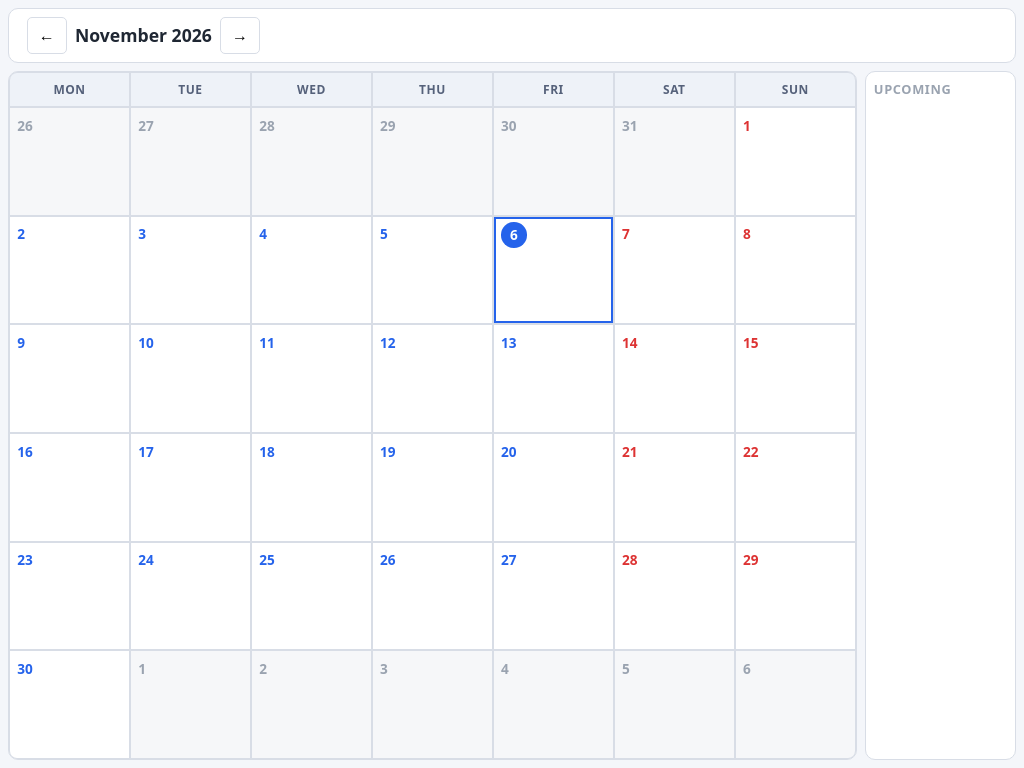
Calendar › creates an event from a day click
This screenshot has width=1024, height=768.
Click the 1st cell "5": point(432, 270) [373, 217, 492, 323]
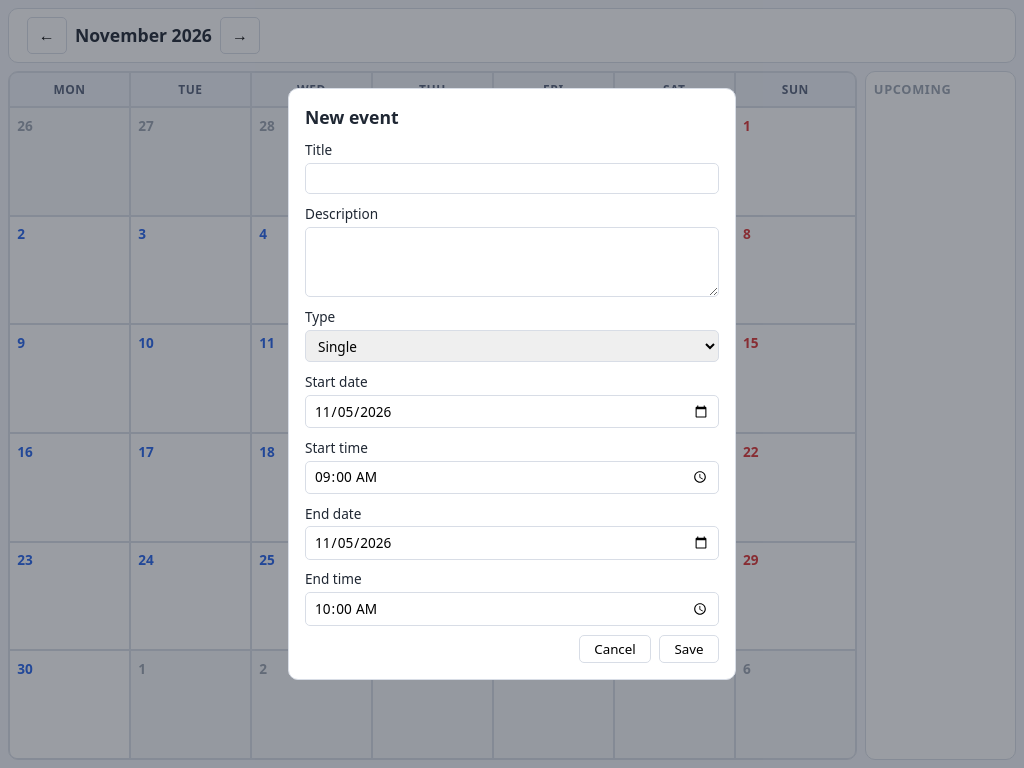
In the field labelled "Title": point(512, 178) [305, 163, 719, 194], type "Dentist"
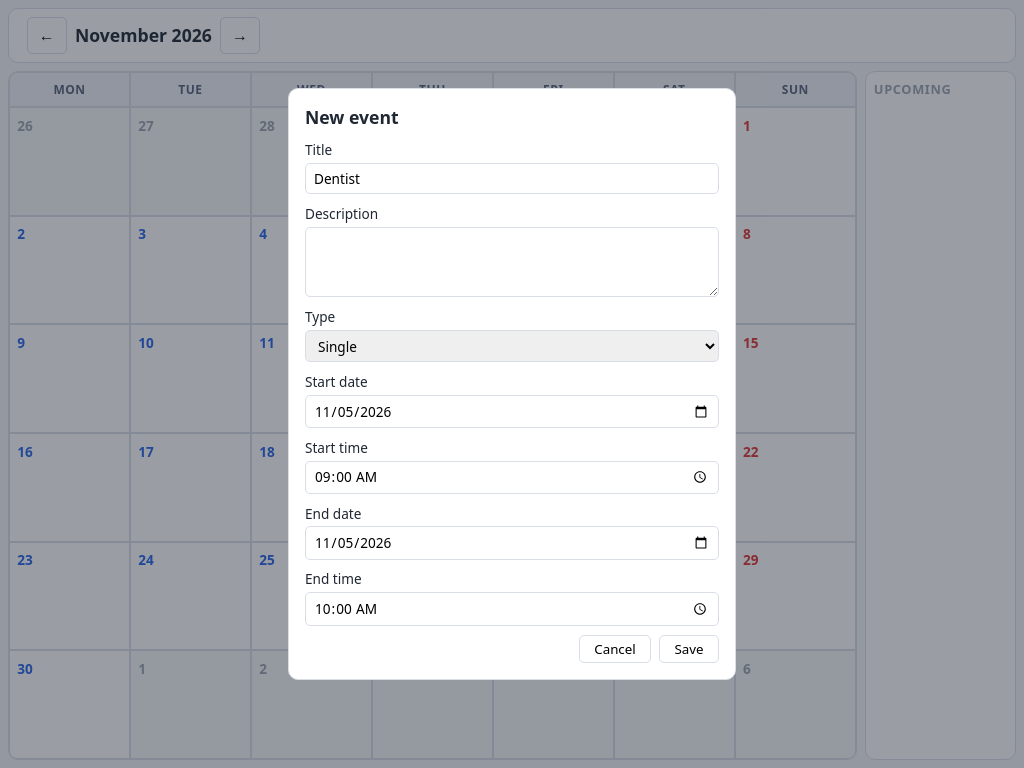
Click the button "Save": point(689, 649) [659, 635, 719, 663]
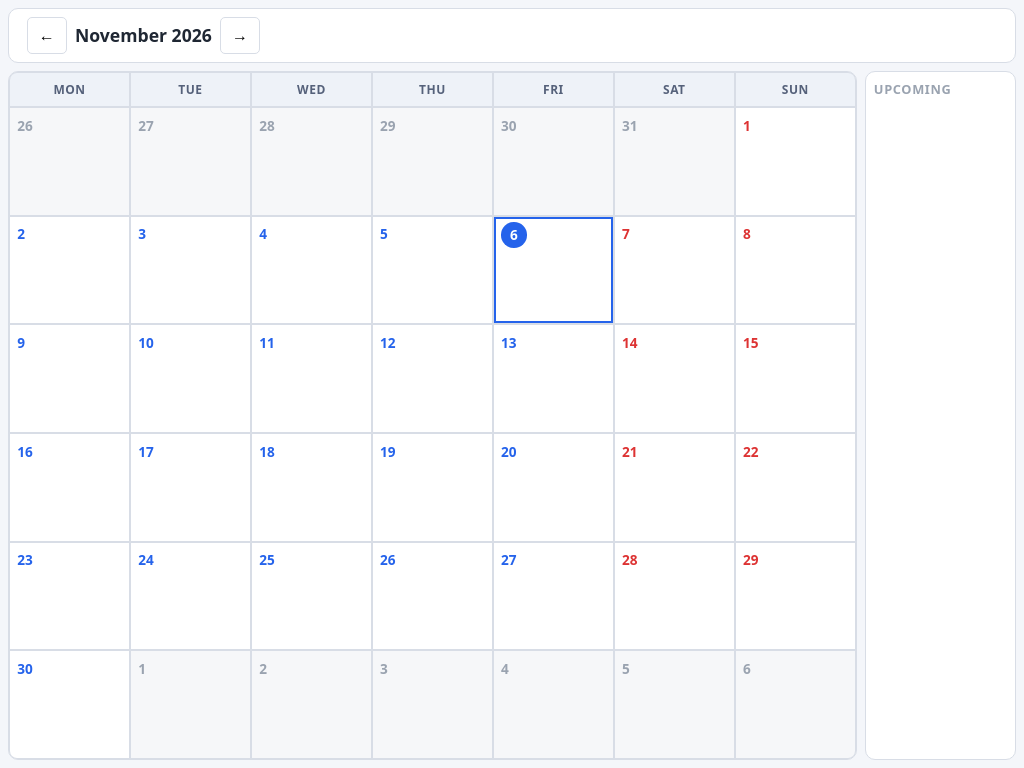
Expected: the dialog is gone
